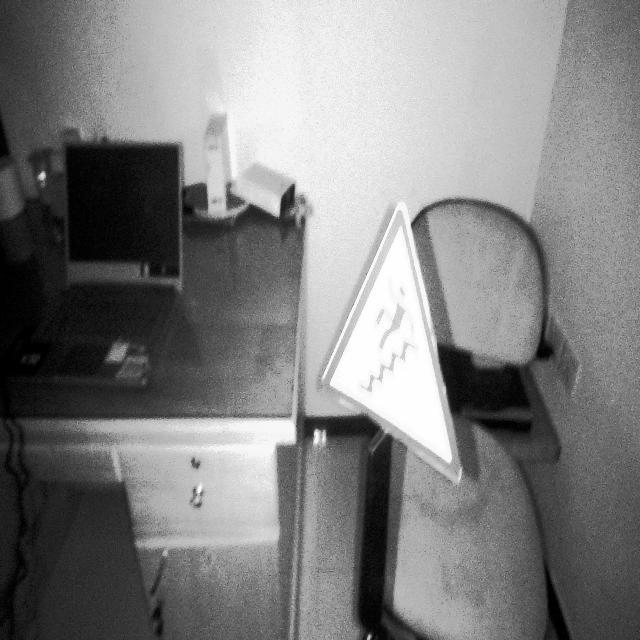Sign: (319, 201, 464, 487)
